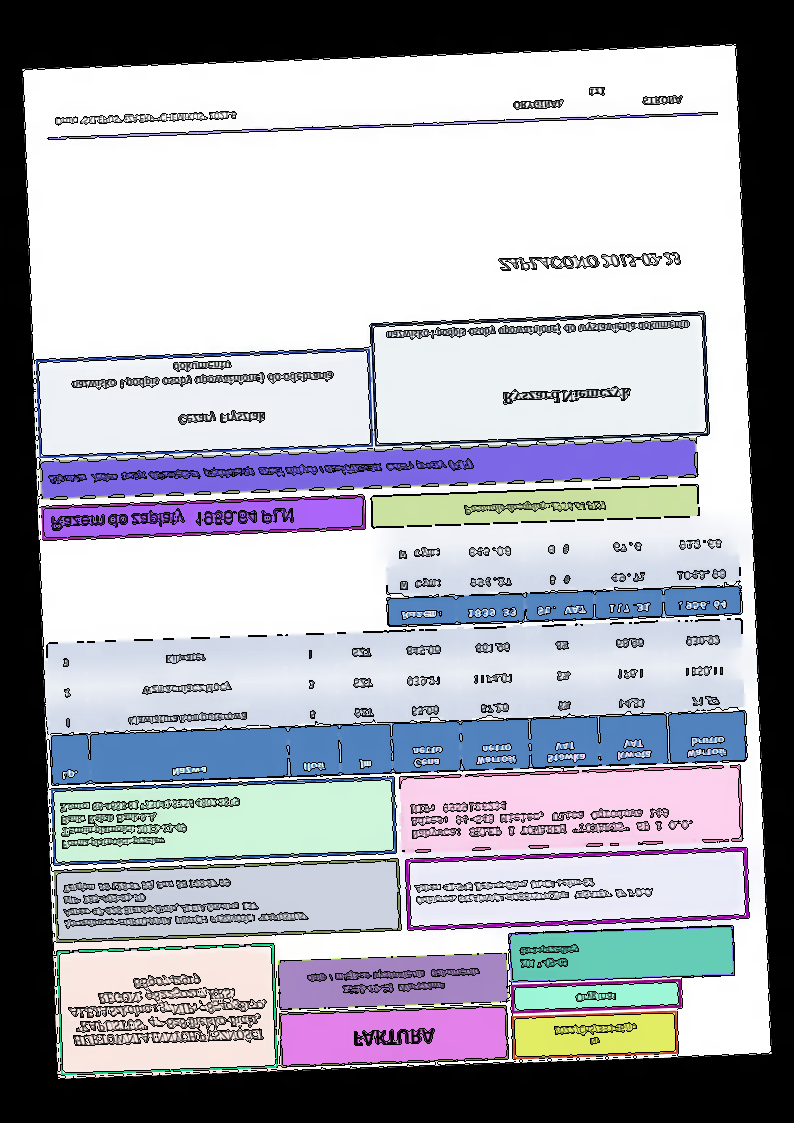Table: (45, 617, 748, 787), (383, 523, 744, 627)
TextBox: (66, 969, 271, 1049), (61, 872, 311, 930), (408, 793, 696, 842), (47, 457, 475, 487), (59, 795, 244, 852), (68, 357, 336, 392), (413, 874, 655, 909), (384, 317, 691, 343), (49, 503, 295, 534), (306, 965, 482, 997), (509, 82, 684, 112), (496, 250, 683, 274), (54, 108, 238, 127), (502, 385, 632, 408), (462, 499, 609, 517), (552, 1020, 639, 1048), (351, 1025, 436, 1049), (517, 943, 581, 971), (177, 409, 267, 427), (574, 989, 618, 1005)
